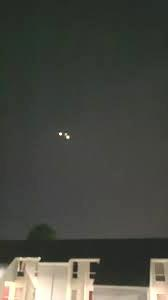Plane: (52, 121, 77, 149)
